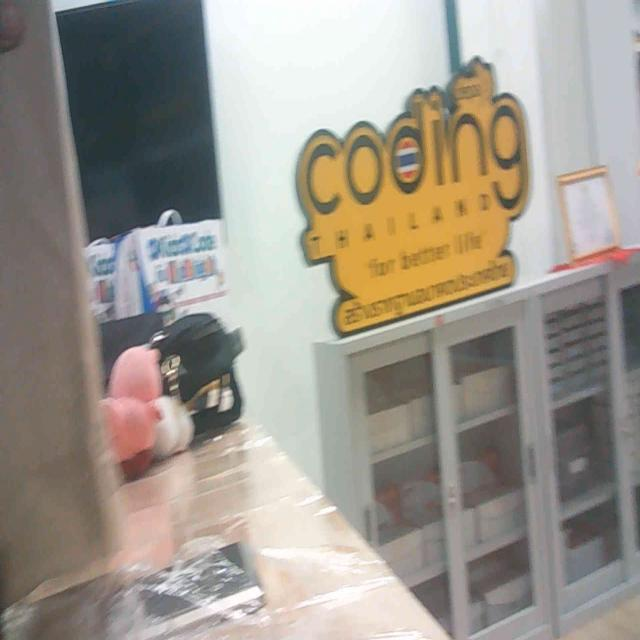bag: (0, 9, 106, 569)
